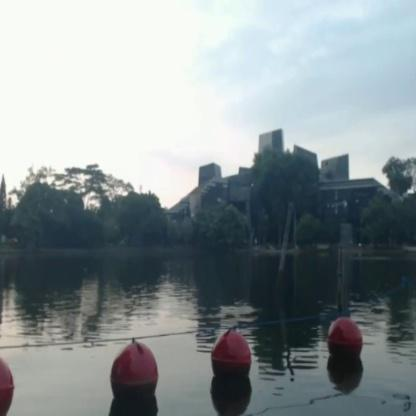red_buoy: (110, 340, 161, 406), (211, 334, 251, 388), (326, 320, 363, 372), (0, 363, 16, 414)
